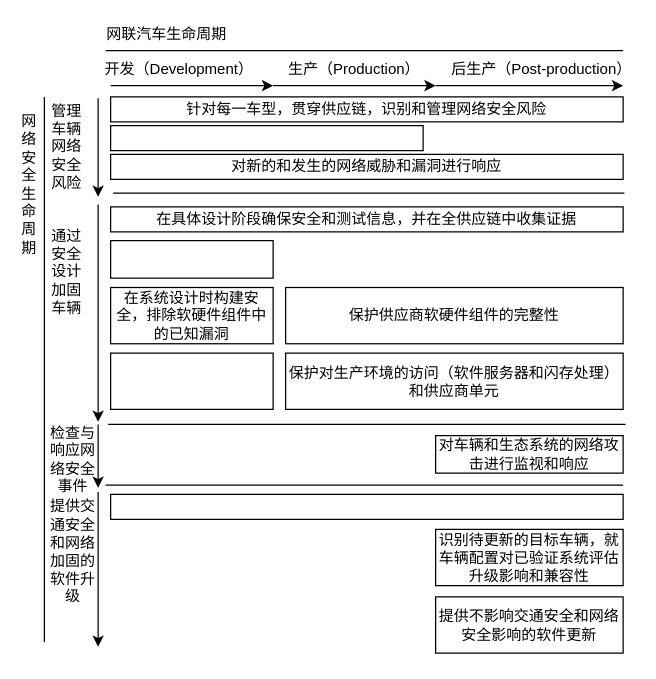
Some shapes in this 656 by 679 pixel diagram are drawn without their labels. Here are the shapes that lost their labels. From the top down, the box of each, then its label:
(109, 124, 423, 151): 确保系统通过安全测试
(109, 239, 273, 278): 分析网络安全威胁并生成风险处置计划
(109, 352, 273, 409): 测试软硬件组件的安全性（漏洞扫描、渗透测试、代码分析）
(109, 493, 623, 519): 在车辆生命周期中，确保软件版本和车辆配置的全面可跟踪
